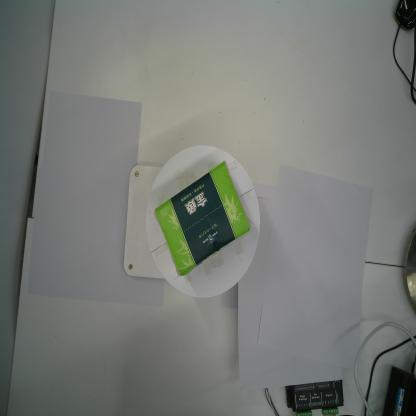Tissue: (153, 159, 251, 278)
